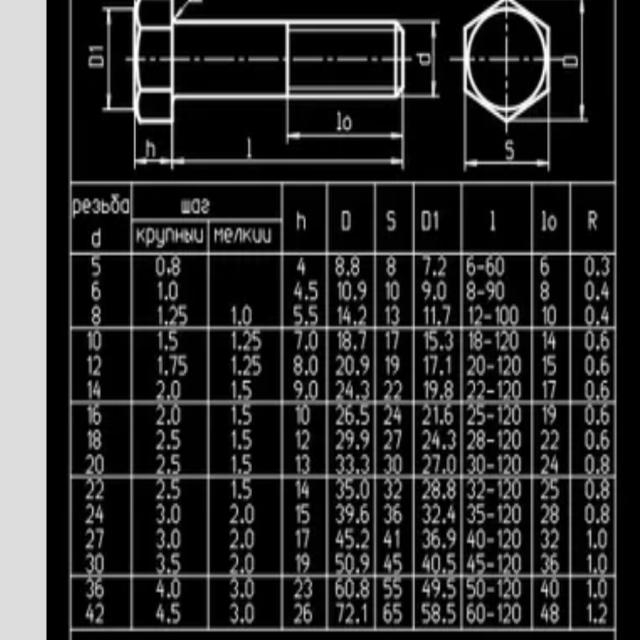marking_line: (173, 159, 404, 169), (468, 158, 548, 173), (578, 1, 587, 120), (289, 131, 403, 140), (103, 12, 114, 105), (429, 25, 440, 95), (136, 157, 171, 165)
